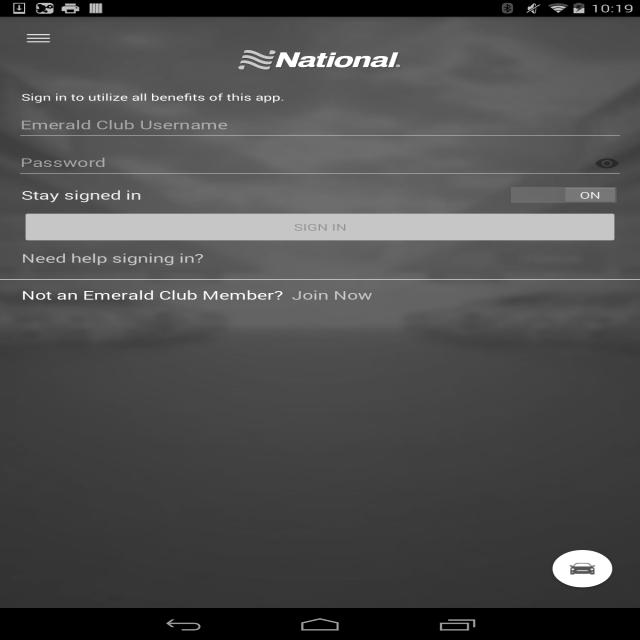Button: (21, 211, 619, 243)
EditText: (16, 148, 624, 179), (16, 111, 624, 141)
ImageButton: (542, 540, 623, 597), (9, 17, 68, 59), (590, 148, 624, 178)
ImageView: (0, 17, 640, 608), (238, 30, 402, 91)
Switch: (21, 179, 619, 211)
TextView: (0, 243, 640, 273), (22, 287, 284, 303), (22, 91, 284, 103), (292, 286, 372, 314)
